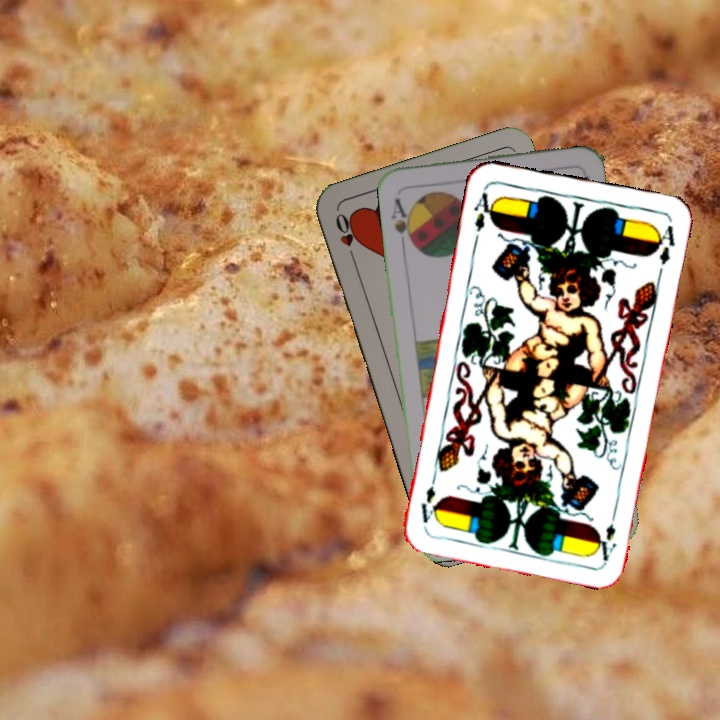EA: (469, 184, 498, 235), (592, 519, 619, 564)
HO: (331, 209, 361, 265)
SA: (387, 193, 417, 247)
